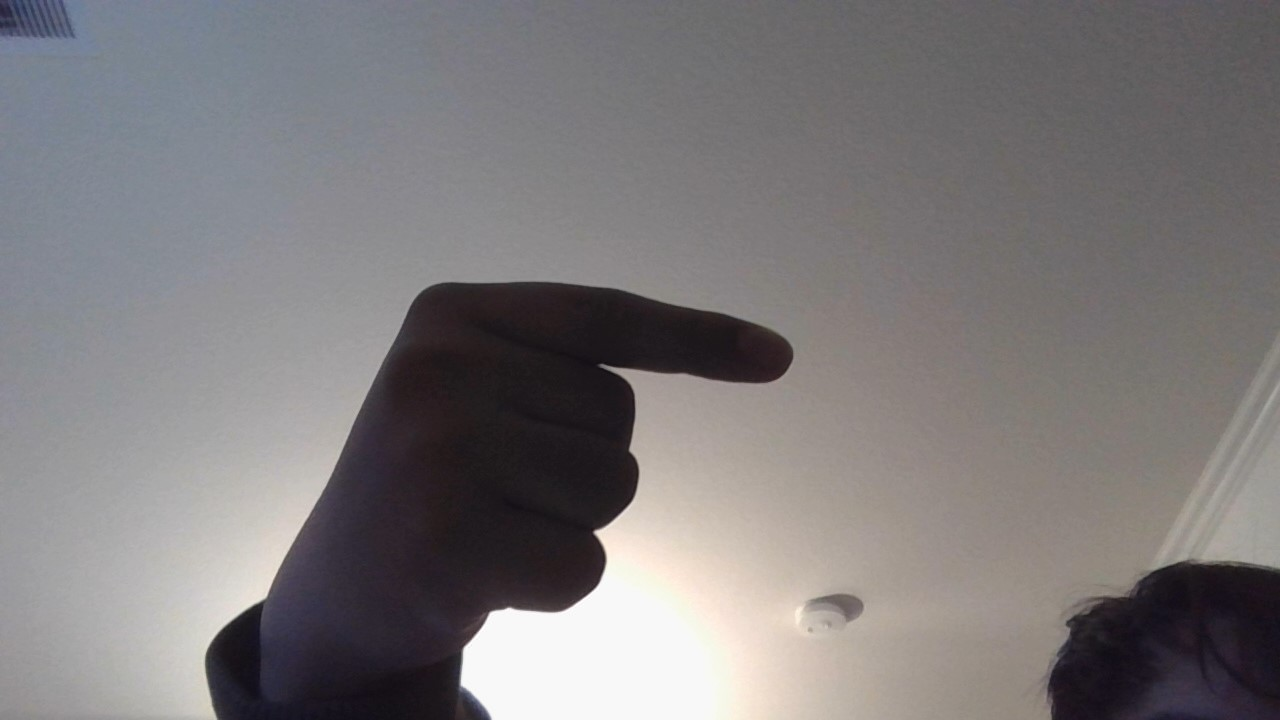g: (198, 246, 812, 702)
